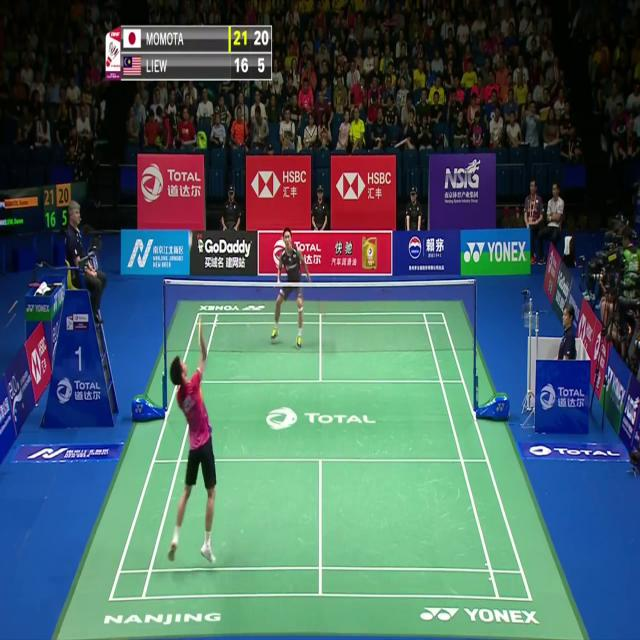Shuttlecock: (187, 234, 193, 246)
